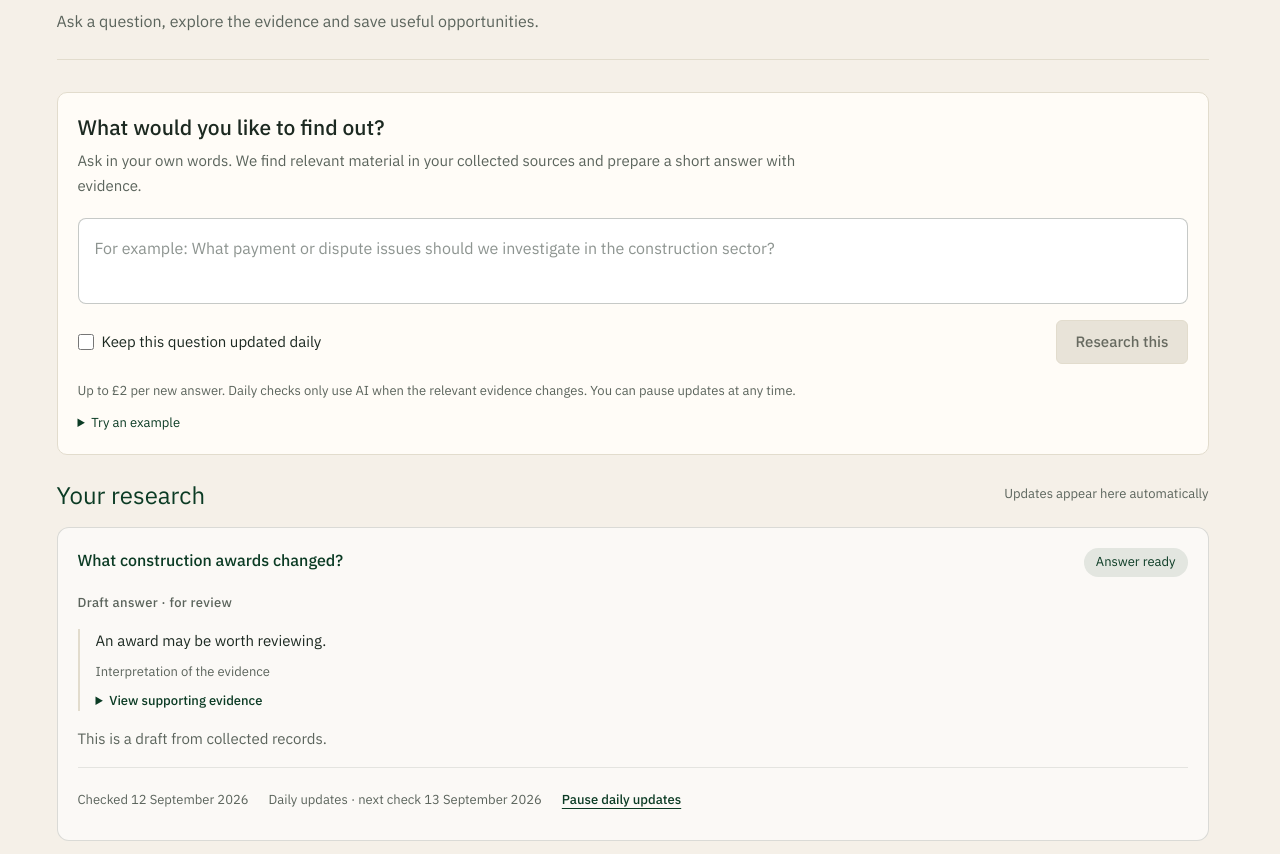
Test: shows a cited draft and pauses daily checks without starting another answer
Expected: the text "Draft answer · for review" is shown, [78,594,232,611]
Expected: the text "Interpretation of the evidence" is shown, [96,663,270,680]
Click the heading "View supporting evidence": (186, 700) [109,692,262,709]
(page scrolled)
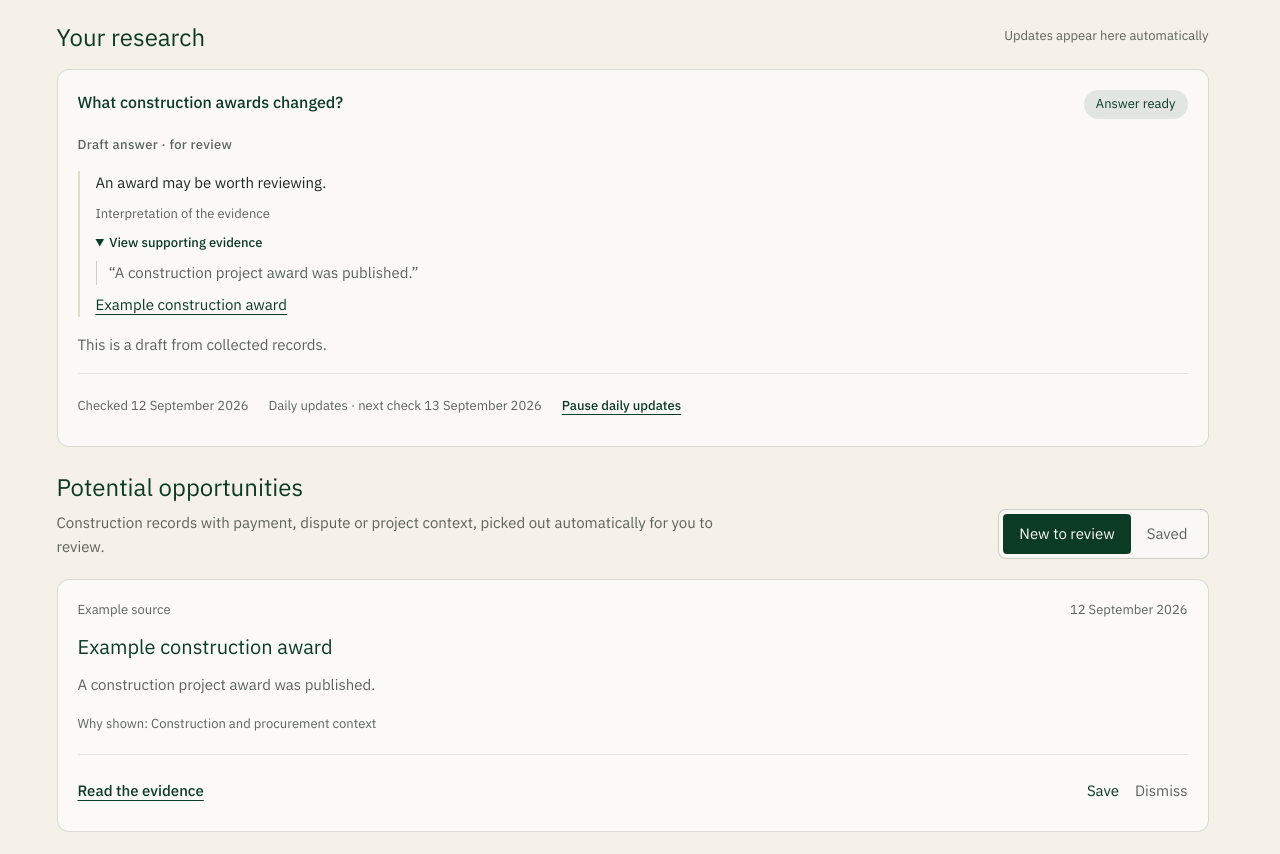
Click the button "Pause daily updates": (622, 406) [562,386,681,426]
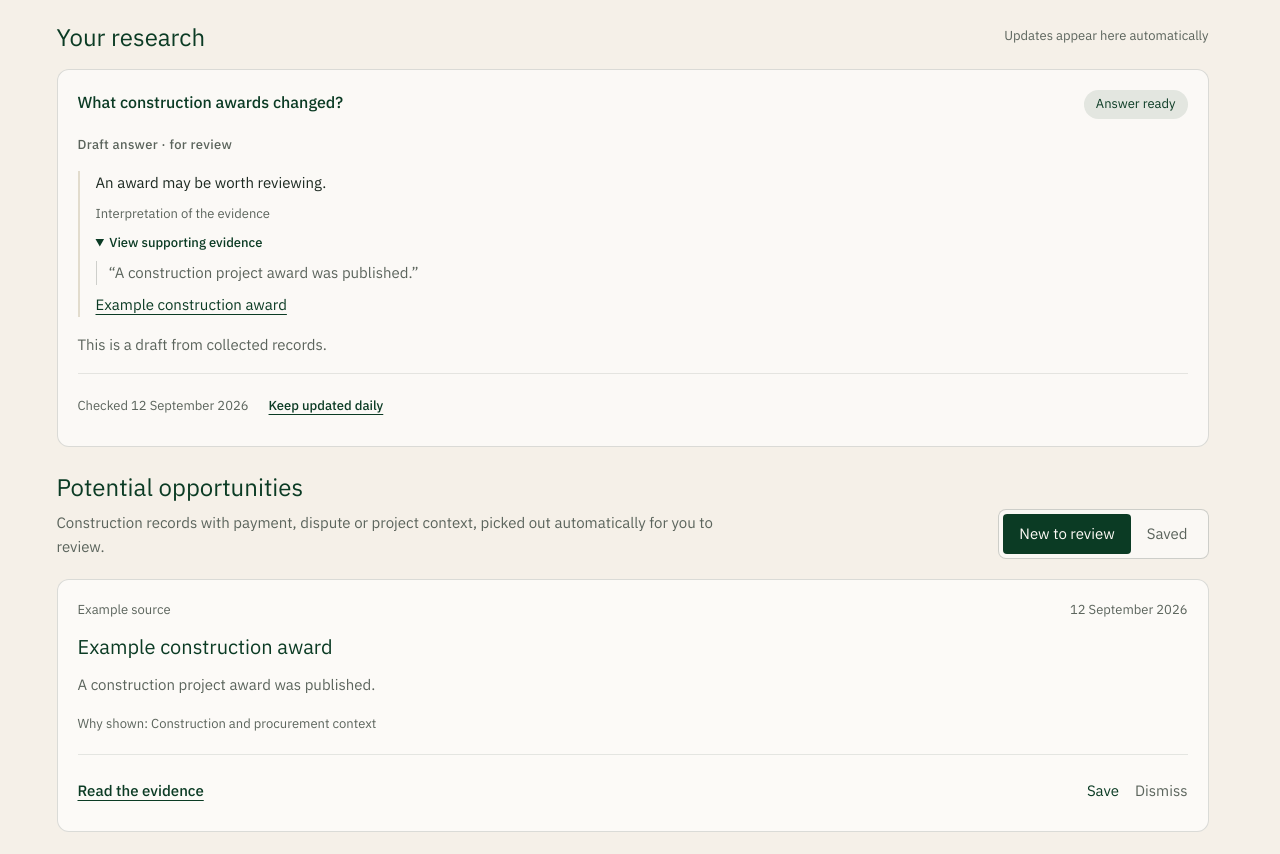
Result: the button "Keep updated daily" is shown at [268,386,383,426]
